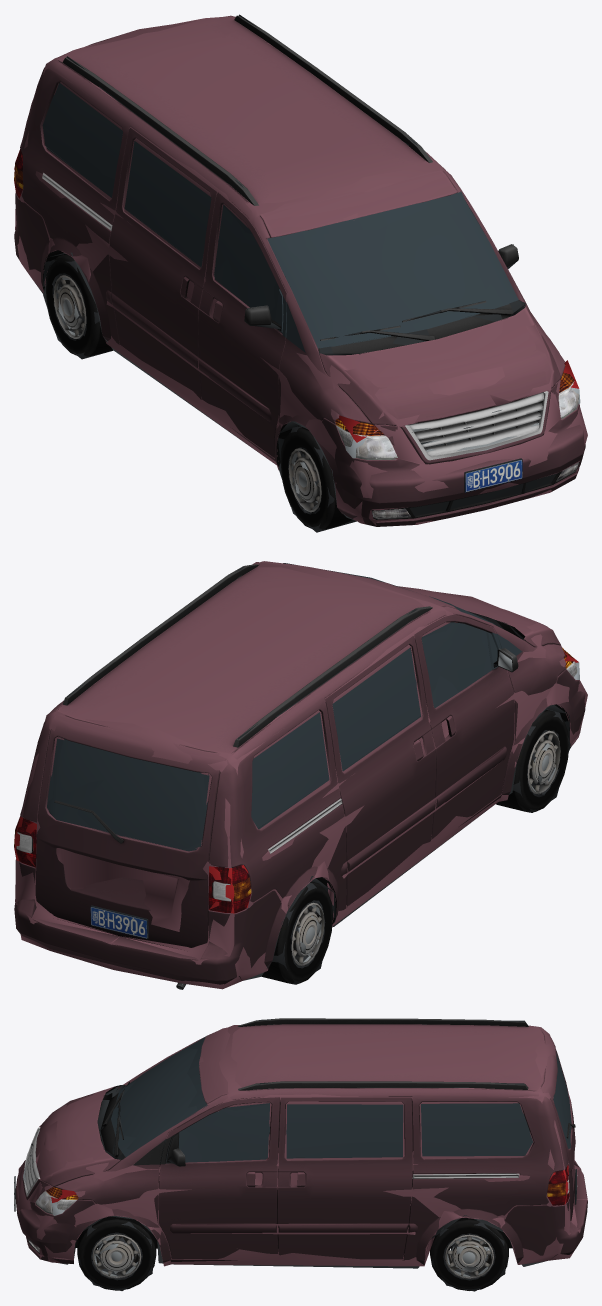
Rendered from mifa9.glb.
3 renders of one model, top to bottom at view 1: azimuth 30°, elevation 25°; view 2: azimuth 150°, elevation 25°; view 3: azimuth 270°, elevation 25°, orthographic. The views are drawn at different scales.
Parts seen in each view (by area): view 1: multivan coachwork, Distant multivan, wheel_LF, wheel_LR, Plate front; view 2: multivan coachwork, Distant multivan, wheel_LF, wheel_LR, Plate rear; view 3: multivan coachwork, Distant multivan, wheel_RF, wheel_RR.
Boxes of the visible parts, x1,y1,x2,y2 form: multivan coachwork: [14, 15, 585, 526]; Distant multivan: [14, 14, 587, 532]; wheel_LF: [280, 427, 352, 529]; wheel_LR: [45, 254, 113, 356]; Plate front: [464, 458, 522, 492]; multivan coachwork: [14, 561, 585, 989]; Distant multivan: [14, 562, 587, 989]; wheel_LF: [496, 709, 568, 812]; wheel_LR: [261, 881, 332, 984]; Plate rear: [90, 905, 148, 938]; multivan coachwork: [15, 1018, 587, 1265]; Distant multivan: [17, 1019, 587, 1291]; wheel_RF: [77, 1216, 156, 1290]; wheel_RR: [430, 1218, 508, 1290].
Size of the model in its own units: 2.1 by 1.98 by 5.2.
14 materials, 4 textured.
